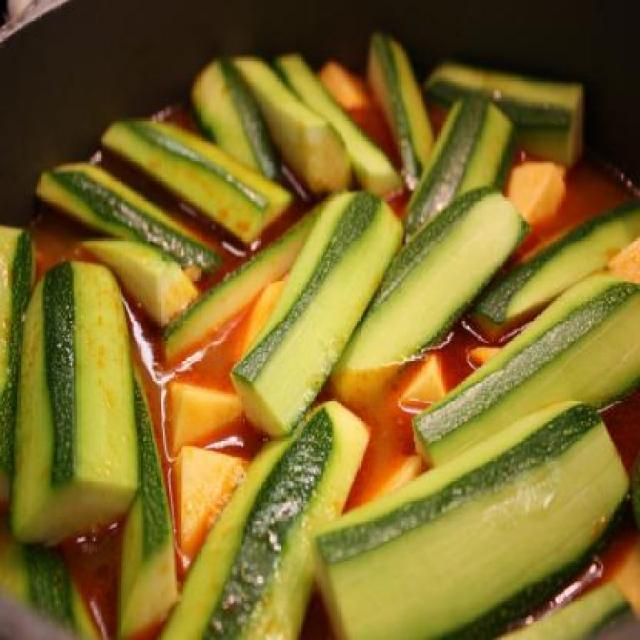Zucchini: (55, 8, 632, 640)
